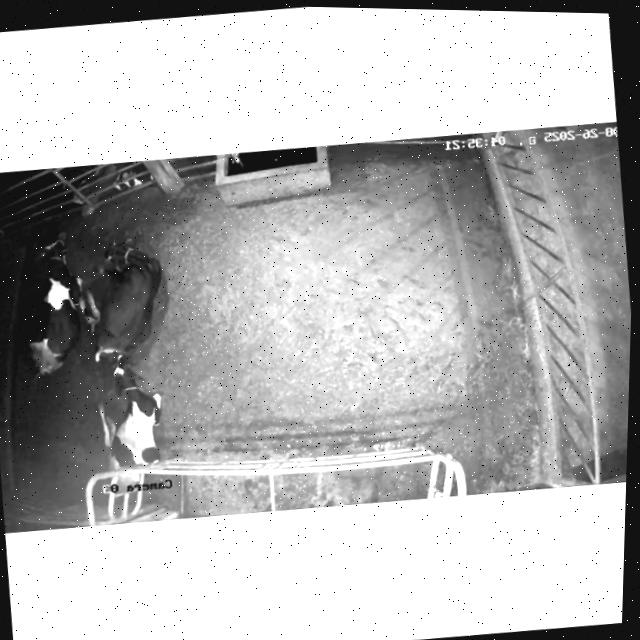lay: (28, 232, 85, 375), (93, 242, 161, 361), (98, 355, 161, 470)
